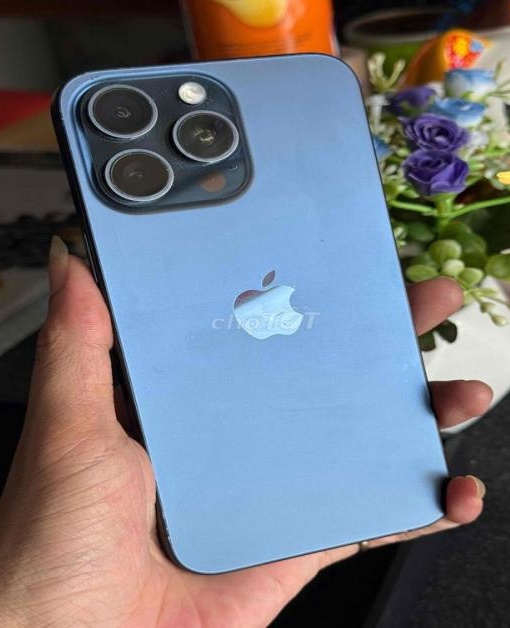physical_damage: (72, 75, 257, 204)
scratch: (230, 274, 312, 338), (152, 501, 176, 546)
